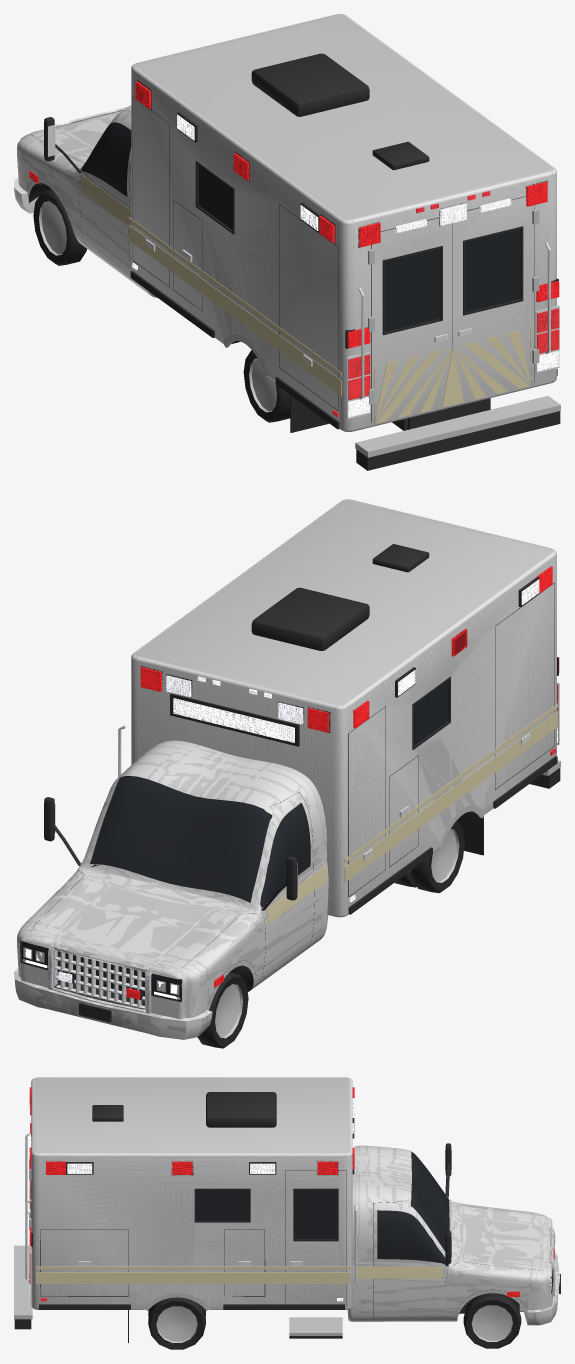
Rendered from road_ambulance.glb.
The picture shows the model from 3 angles, top to bottom: view 1: azimuth 30°, elevation 25°; view 2: azimuth 150°, elevation 25°; view 3: azimuth 270°, elevation 25°; orthographic projection. The views are drawn at different scales.
Visible parts, largest first — view 1: road_ambulance, road_ambulance_far; view 2: road_ambulance, road_ambulance_far; view 3: road_ambulance, road_ambulance_far.
Part boxes in pixels (x1=…): road_ambulance: x1=14, y1=14, x2=560, y2=470; road_ambulance_far: x1=14, y1=14, x2=560, y2=470; road_ambulance: x1=14, y1=499, x2=560, y2=1039; road_ambulance_far: x1=14, y1=499, x2=560, y2=1048; road_ambulance: x1=14, y1=1077, x2=560, y2=1342; road_ambulance_far: x1=14, y1=1077, x2=560, y2=1349.
Bounding box in the file's own units: 2.74 × 3 × 6.97.
